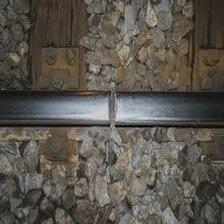railway-gap: (74, 68, 150, 148)
